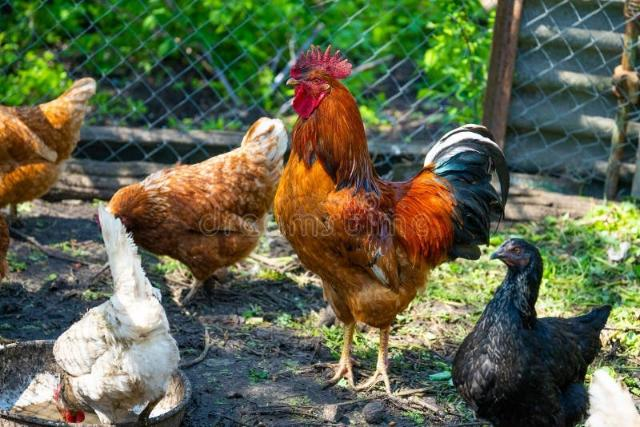Chicken: (274, 46, 510, 390), (101, 115, 291, 306), (453, 236, 613, 427), (52, 202, 181, 422), (0, 78, 98, 212)
